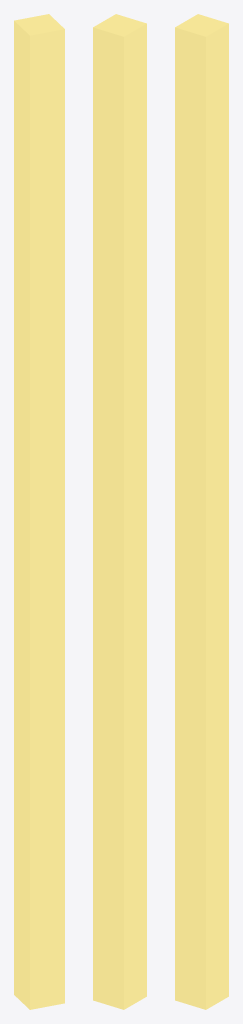
File: scrollBeam.glb
3 renders of one model, left to right at view 1: azimuth 30°, elevation 25°; view 2: azimuth 150°, elevation 25°; view 3: azimuth 330°, elevation 25°, orthographic.
Visible parts, largest first — view 1: Circle; view 2: Circle; view 3: Circle.
Boxes of the visible parts, x1=… form: Circle: x1=14, y1=14, x2=64, y2=1009; Circle: x1=93, y1=14, x2=146, y2=1009; Circle: x1=175, y1=14, x2=228, y2=1009.
Bounding box in the file's own units: 10.75 × 274 × 10.96.
